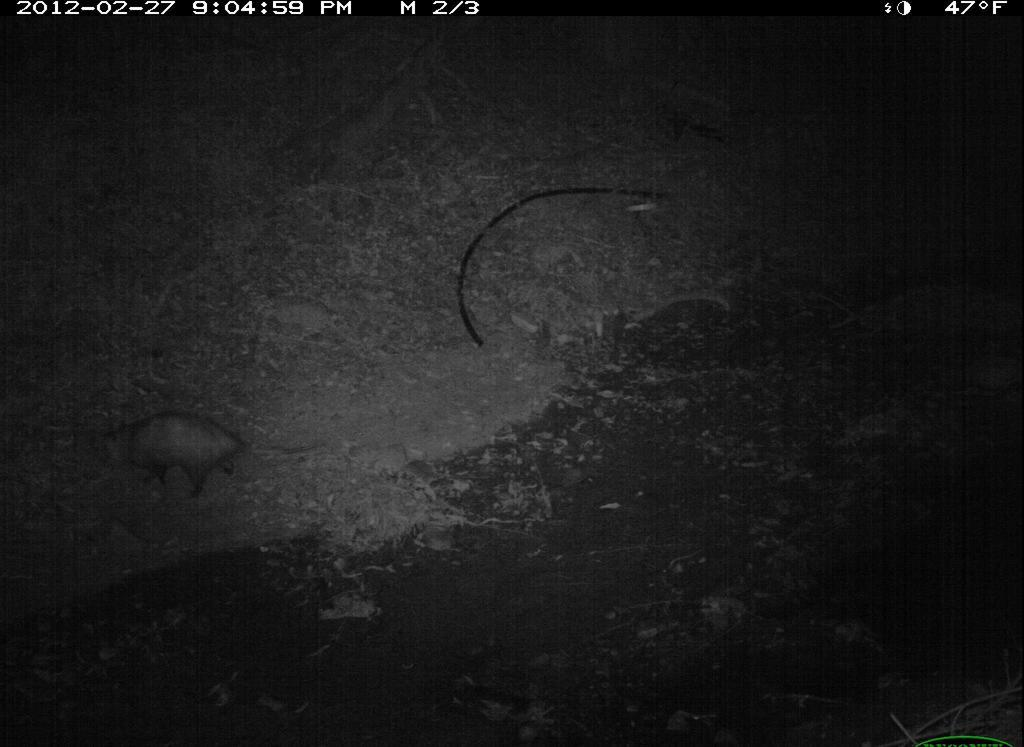opossum: (88, 405, 265, 505)
